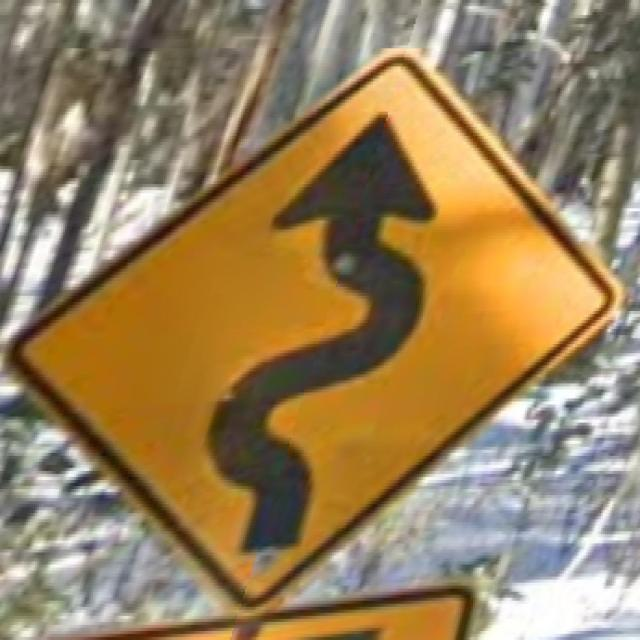Banyak Tikungan Pertama Kiri: (0, 33, 623, 622)
